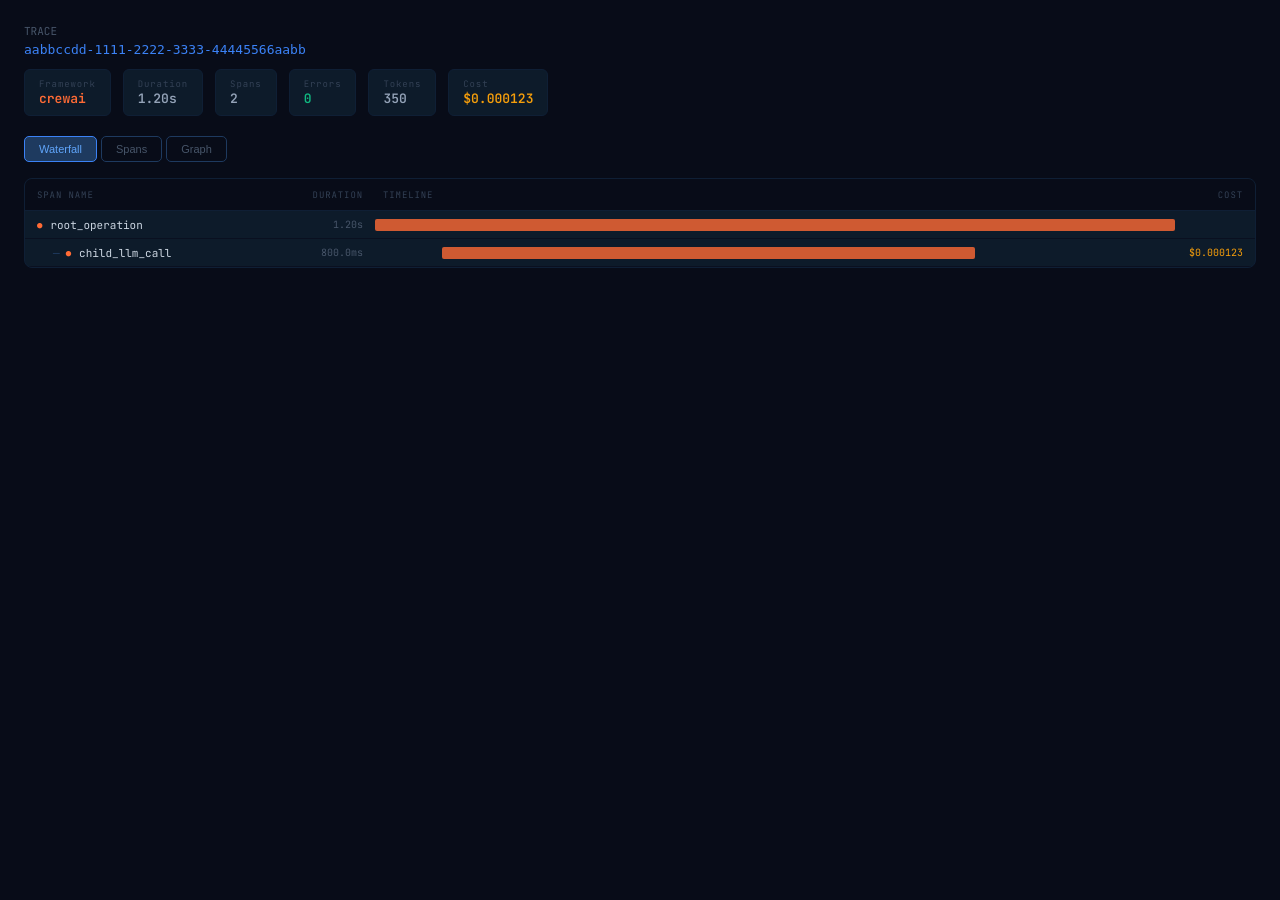
TraceDetail › clicking a span in the spans table selects it and shows detail panel
Click the button "Spans".
click(132, 149)  # box [101, 136, 162, 162]
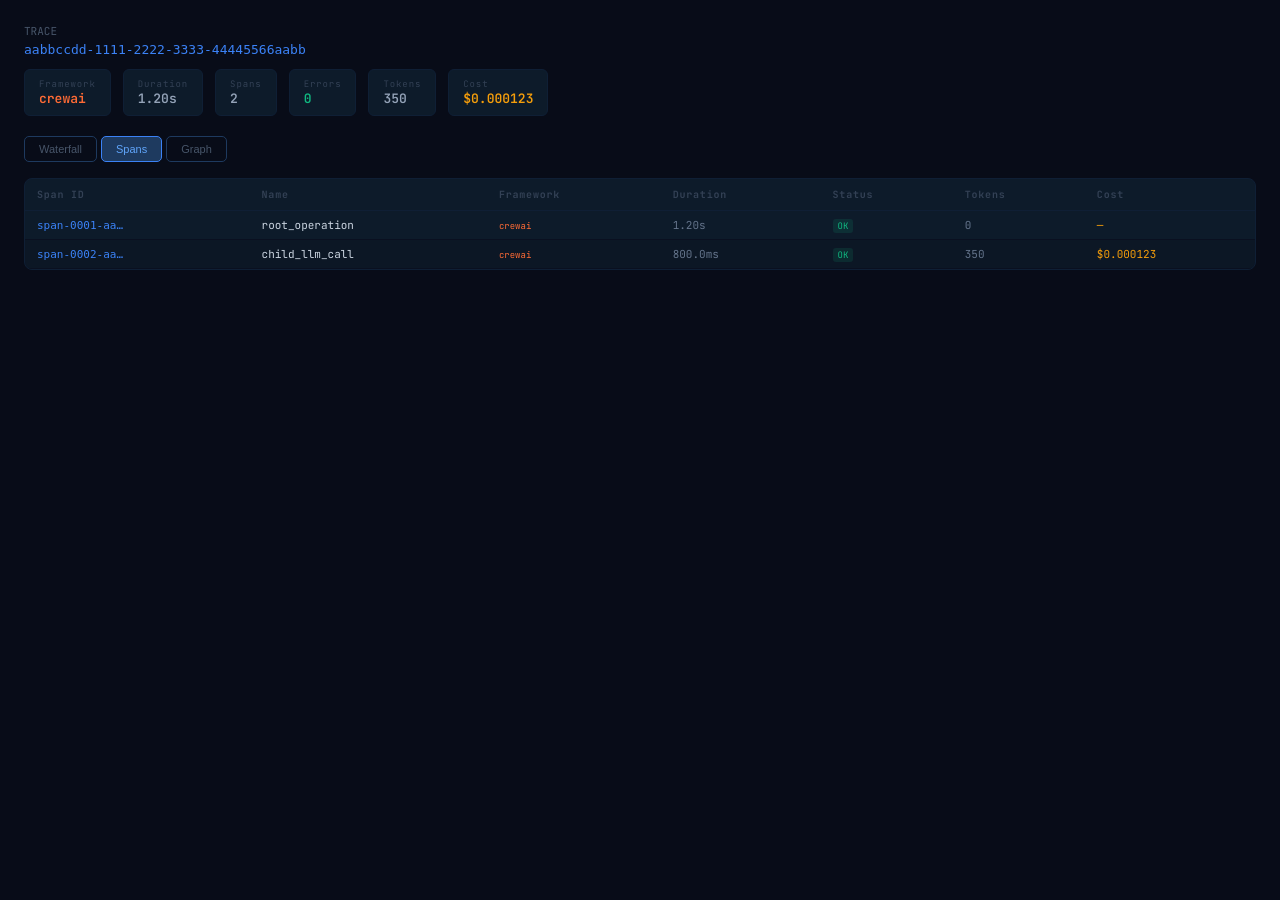
// Find the span name in the table body
Click the text "root_operation".
click(640, 225)  # box [25, 210, 1255, 240]
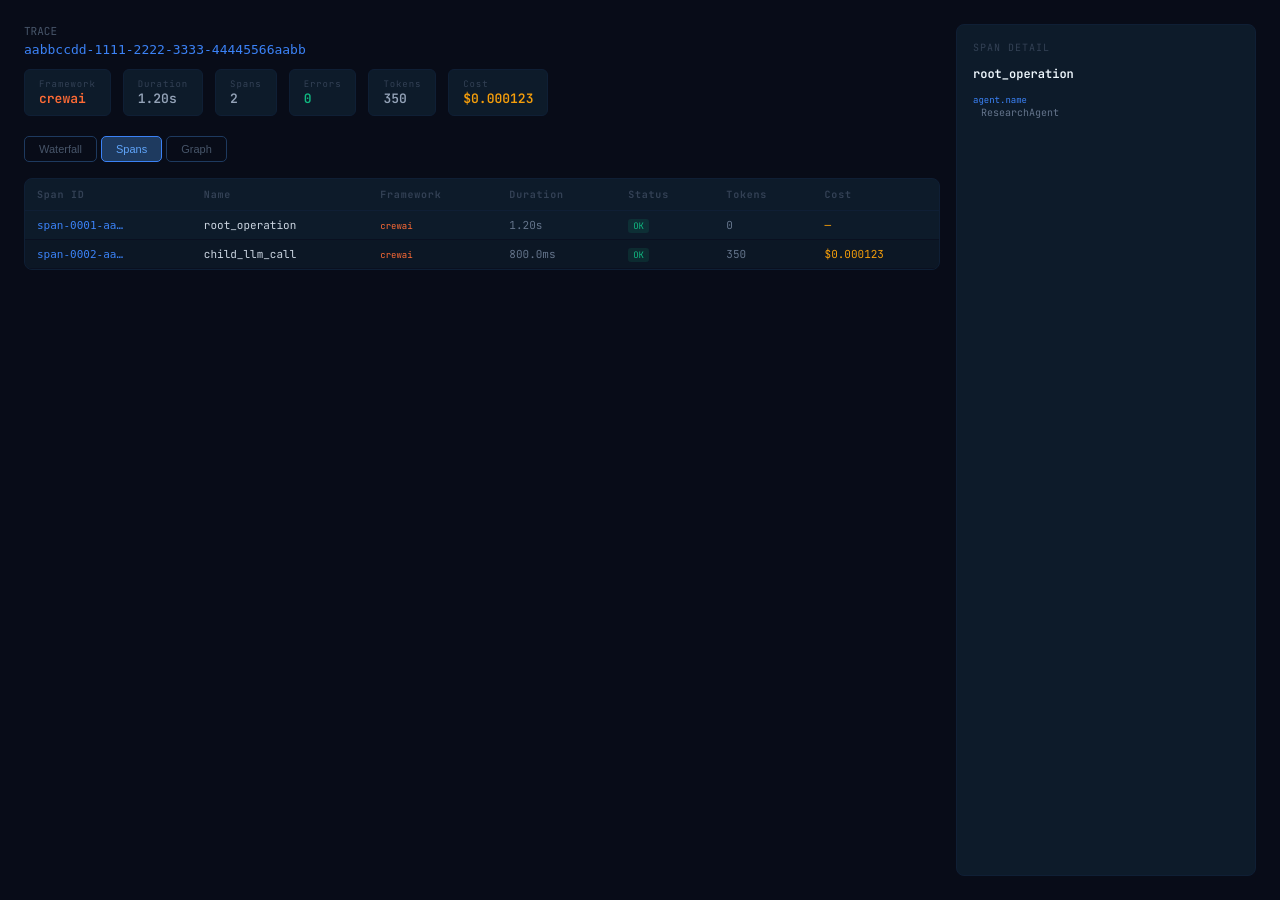
Expected: the text "SPAN DETAIL" is shown, [973, 41, 1050, 54]
